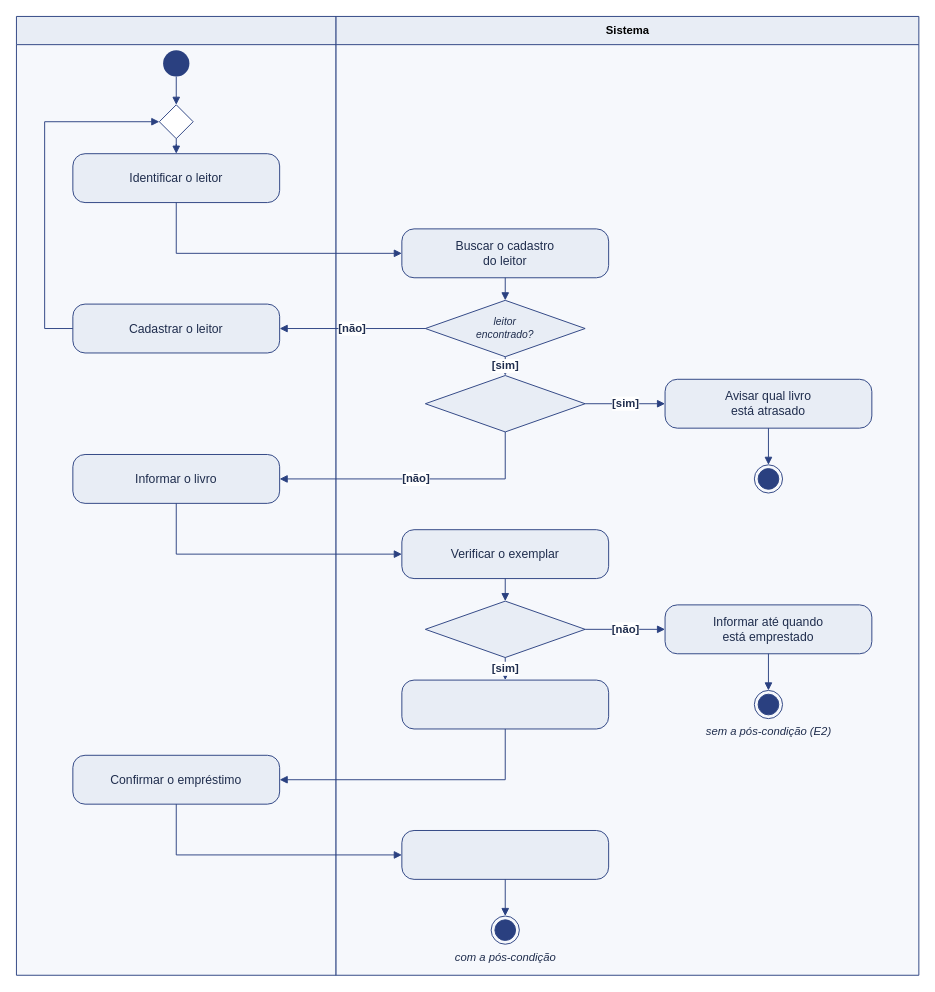
This 935x992 diagram has some shape labels left out. Here are the shapes that lost their labels. From the top down, the box of each, then its label:
(424, 375, 585, 432): tem empréstimo atrasado?
(16, 16, 336, 975): Bibliotecário
(753, 464, 783, 493): sem a pós-condição (E1)
(424, 600, 585, 658): exemplar disponível?
(401, 679, 609, 729): Calcular a data de devolução
(401, 830, 609, 879): Registrar o empréstimo e marcar o exemplar como emprestado
